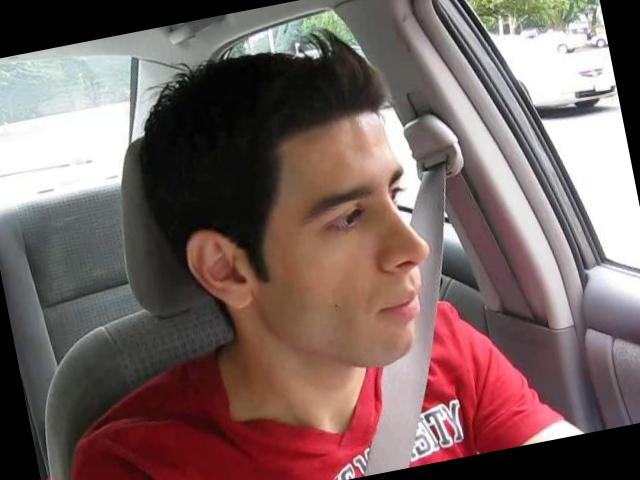eye_open: (314, 198, 380, 245)
face: (274, 146, 463, 380)
